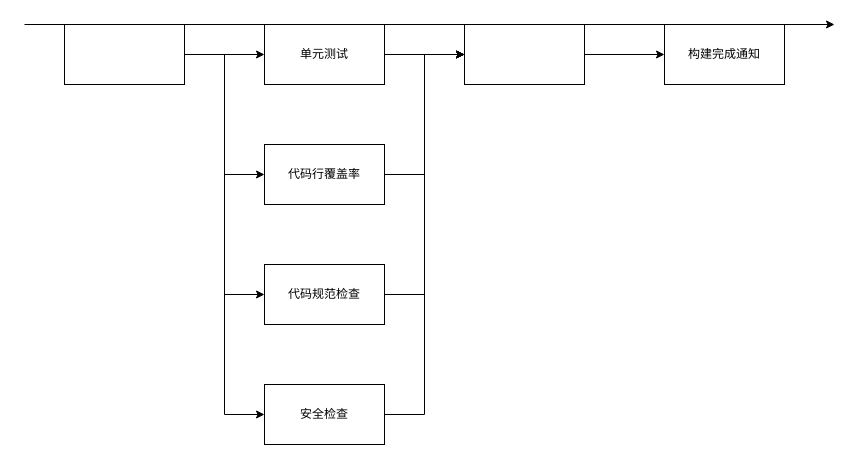
Some shapes in this 860 by 462 pixel diagram are drawn without their labels. The shapes that lost their labels are listed below. From the top down, each one's centre as x and y in pixels, then its label:
At (124,54): "拉取代码".
At (524,54): "构建镜像并推送".
